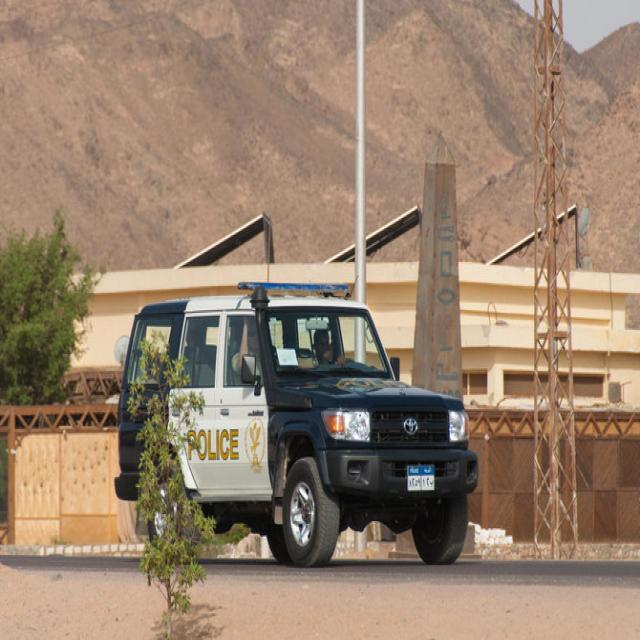Police-car: (114, 282, 478, 566)
